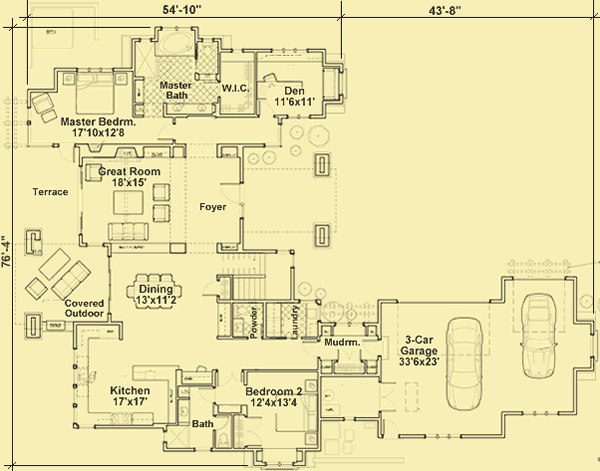bed: (76, 69, 117, 117)
coffee table: (110, 188, 145, 218)
dining table: (121, 270, 185, 313)
door: (216, 179, 248, 212), (377, 381, 401, 416), (242, 413, 267, 446), (198, 385, 221, 408), (55, 141, 77, 165), (158, 123, 183, 143), (335, 348, 365, 362), (202, 281, 225, 299), (211, 412, 231, 432), (258, 97, 277, 118)
large sofa: (48, 259, 91, 301), (107, 221, 152, 244)
small sink: (176, 398, 193, 426)
small sofa: (23, 276, 50, 301), (150, 203, 173, 226), (151, 180, 173, 203), (33, 93, 56, 114)
stairs: (213, 247, 297, 307)
tub: (159, 28, 195, 59)
